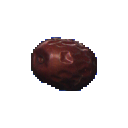gd: (19, 32, 101, 104)
